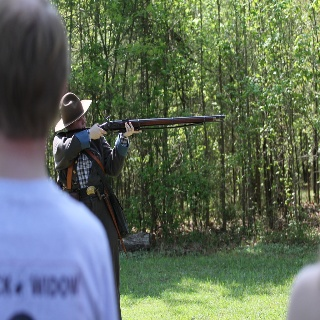rifle: (59, 114, 226, 135)
